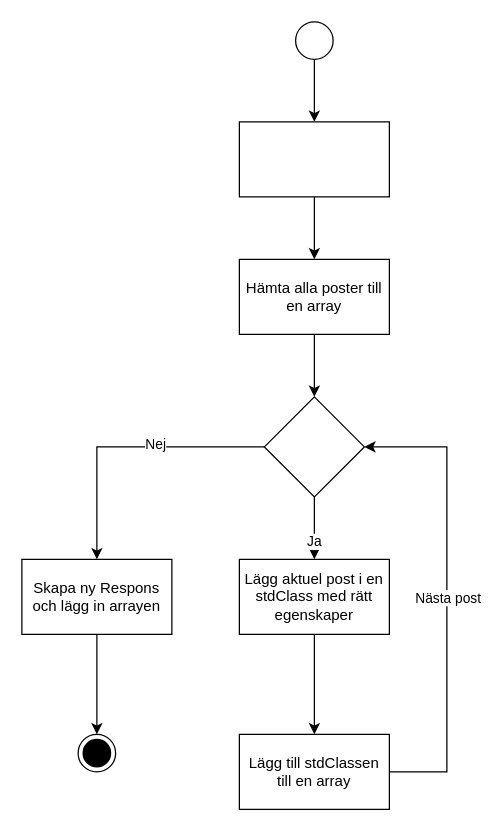
Image size: 503x831. Some labels were removed from this diagram. The box of each missing label's shape, as (x1, y1, x2, y2) in pixels:
Finns fler poster?: (263, 396, 364, 497)
Koppla mot databas: (238, 121, 389, 197)
